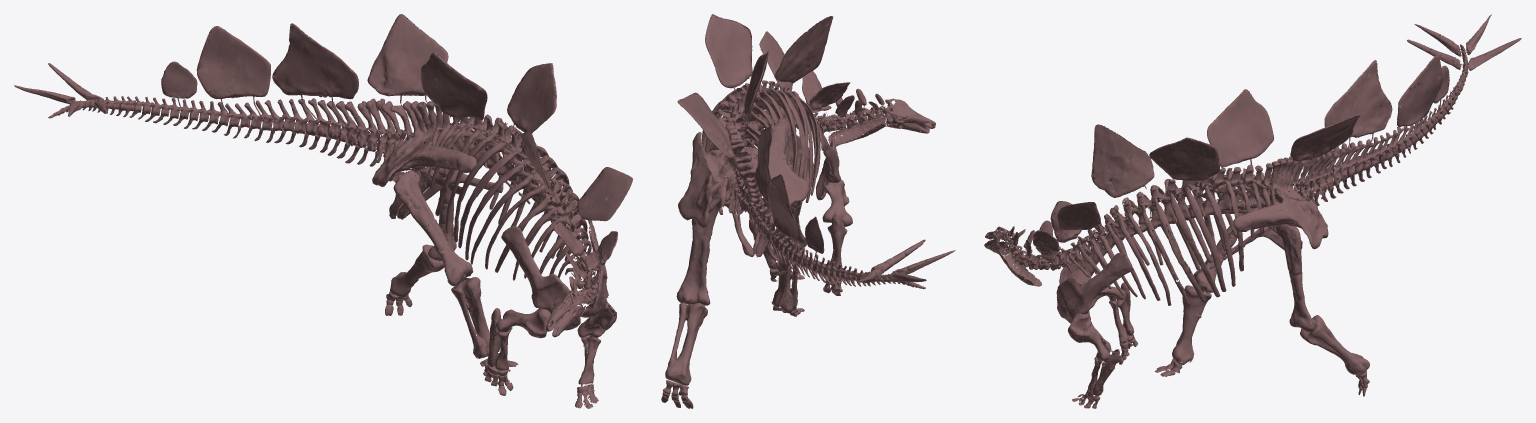
Rendered from stegosaurus.glb.
3 views of the same model, side by side, from view 1: azimuth 30°, elevation 25°; view 2: azimuth 150°, elevation 25°; view 3: azimuth 270°, elevation 25° (orthographic). The views are drawn at different scales.
Visible parts, largest first — view 1: Object_2; view 2: Object_2; view 3: Object_2.
Boxes of the visible parts, bbox=[...] form: Object_2: bbox=[14, 14, 632, 408]; Object_2: bbox=[661, 14, 955, 408]; Object_2: bbox=[984, 14, 1521, 408].
Size of the model in its own units: 3754 by 2910 by 4832.
